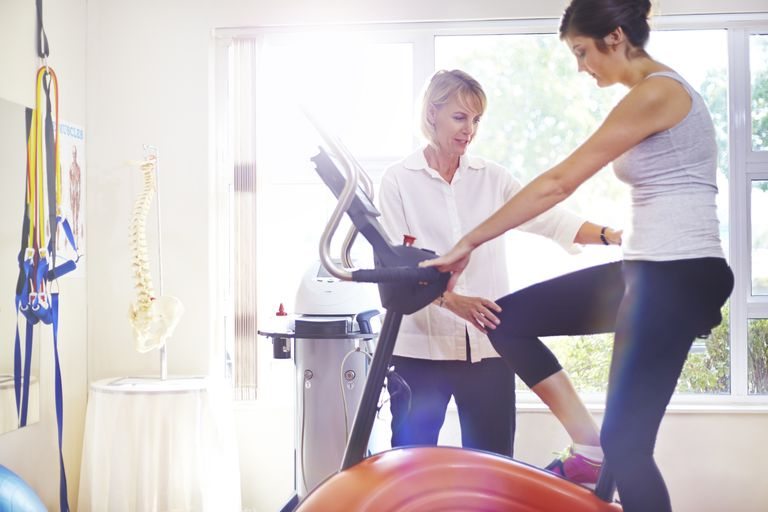gym_bike: (254, 117, 506, 509)
